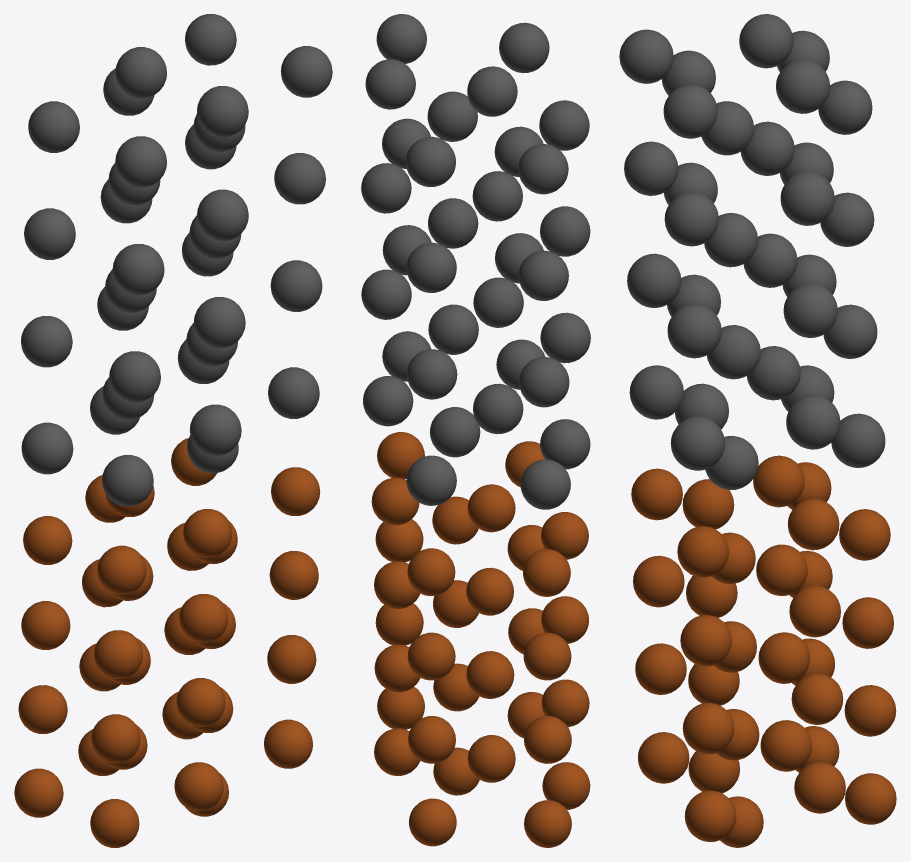
3 renders of one model, left to right at view 1: azimuth 30°, elevation 25°; view 2: azimuth 150°, elevation 25°; view 3: azimuth 270°, elevation 25°, orthographic. The views are drawn at different scales.
Parts seen in each view (by area): view 1: vmd_mol0_rep1, vmd_mol0_rep0; view 2: vmd_mol0_rep1, vmd_mol0_rep0; view 3: vmd_mol0_rep1, vmd_mol0_rep0.
Part boxes in pixels (bbox=[...]): vmd_mol0_rep1: bbox=[21, 14, 332, 506]; vmd_mol0_rep0: bbox=[14, 438, 320, 847]; vmd_mol0_rep1: bbox=[361, 14, 590, 509]; vmd_mol0_rep0: bbox=[371, 432, 590, 847]; vmd_mol0_rep1: bbox=[619, 14, 885, 490]; vmd_mol0_rep0: bbox=[631, 455, 896, 847].
Size of the model in its own units: 0.6606 by 1.92 by 0.5988.
